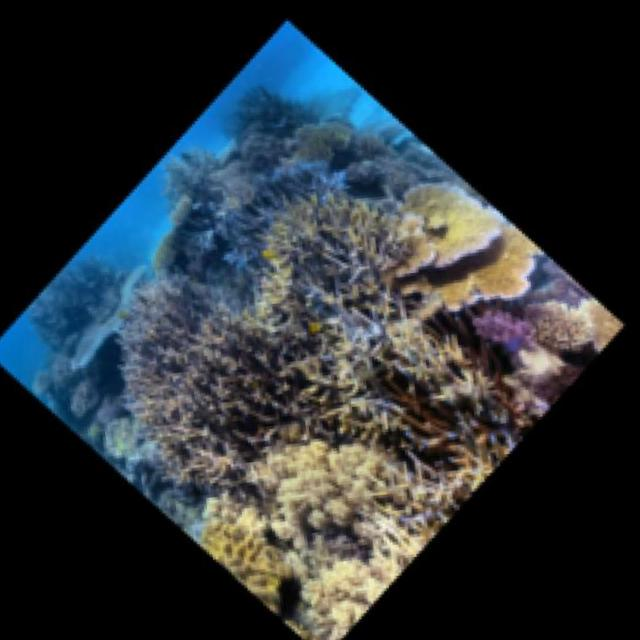Dead Coral: (85, 205, 392, 513), (184, 375, 489, 630), (356, 158, 592, 344), (179, 53, 404, 245), (244, 164, 425, 311), (481, 270, 598, 371)
